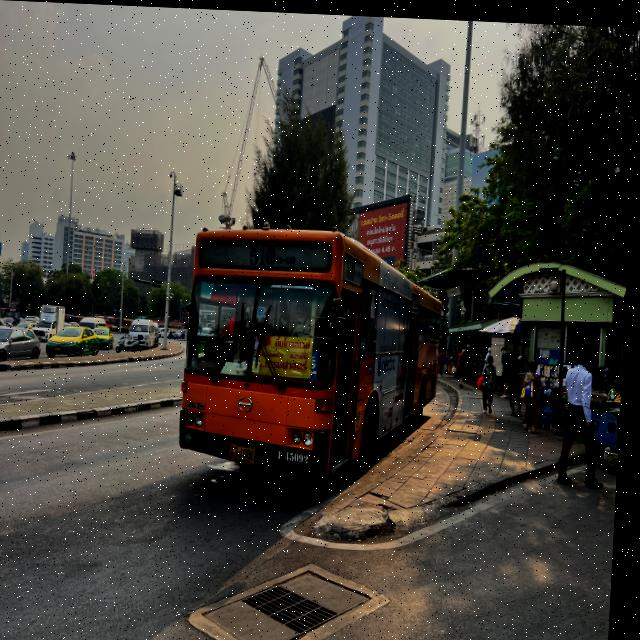BMTA-bus: (177, 213, 452, 479)
Bus-Line-Number: (250, 243, 302, 265)
Destination-Sign-Normal-Expressway: (258, 332, 317, 375)
